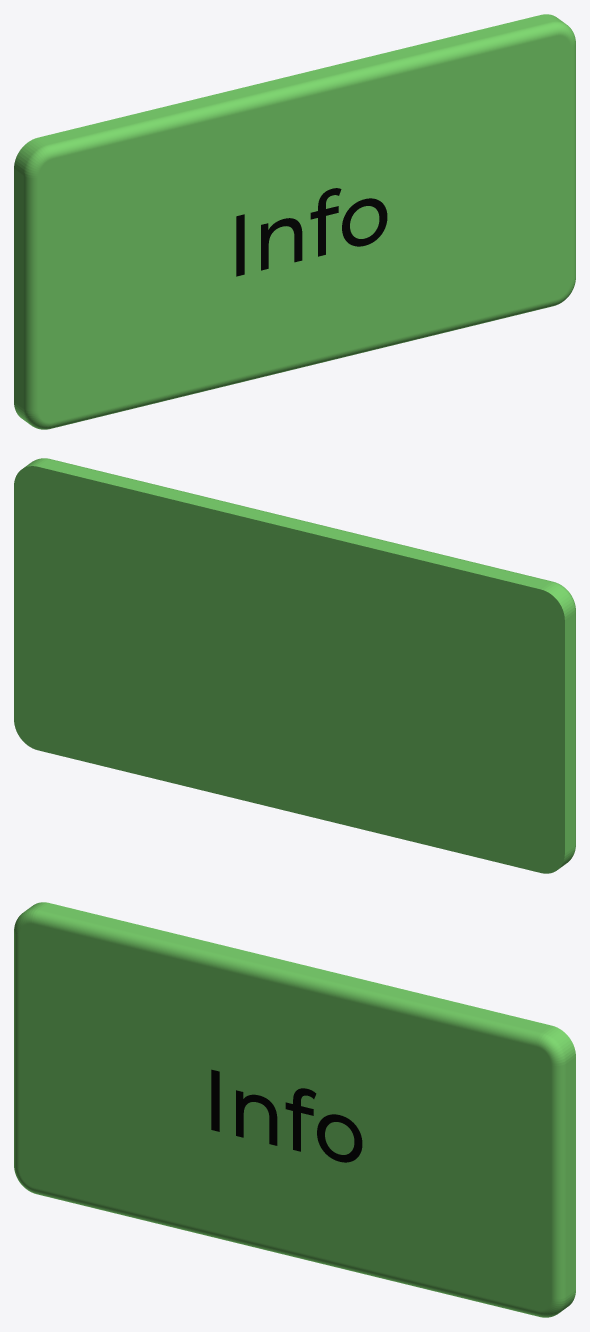
Rendered from Info.glb.
The picture shows the model from 3 angles, top to bottom: view 1: azimuth 30°, elevation 25°; view 2: azimuth 150°, elevation 25°; view 3: azimuth 330°, elevation 25°; orthographic projection.
Visible parts, largest first — view 1: ButtonNext.003; view 2: ButtonNext.003; view 3: ButtonNext.003.
Part boxes in pixels (bbox=[...]): ButtonNext.003: bbox=[14, 14, 575, 429]; ButtonNext.003: bbox=[14, 458, 575, 873]; ButtonNext.003: bbox=[14, 902, 575, 1317].
Bounding box in the file's own units: 0.5208 × 0.2562 × 0.0296.
2 materials, 2 textured.
